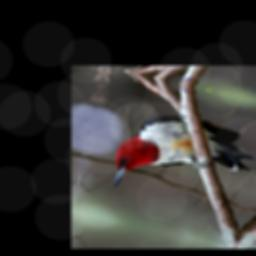Woodpecker: (108, 103, 256, 217)
